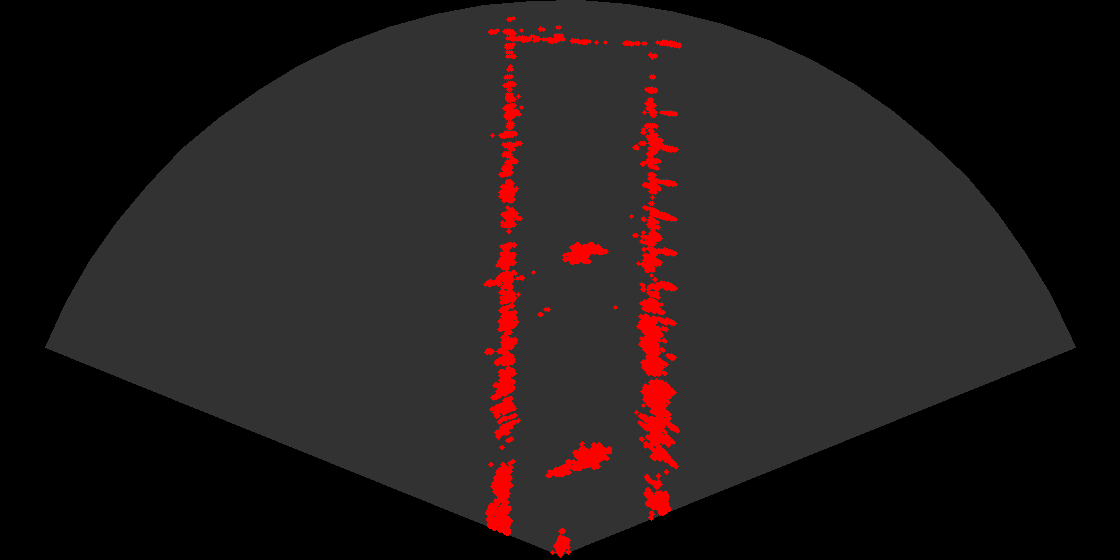AUV: (556, 240, 612, 272)
frogman: (544, 435, 612, 482)
